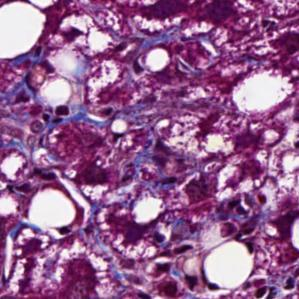inflammation: (113, 216, 200, 278), (11, 95, 74, 131), (210, 186, 266, 222), (247, 262, 299, 299), (142, 137, 179, 170)
